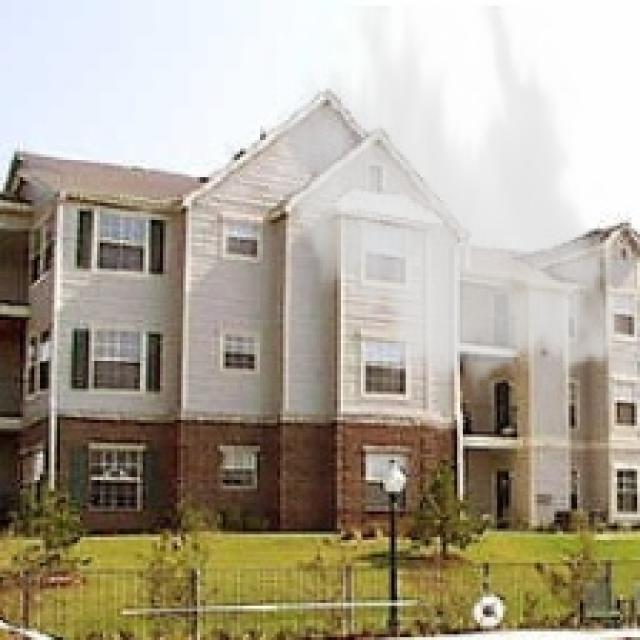Smoke: (254, 6, 637, 403)
